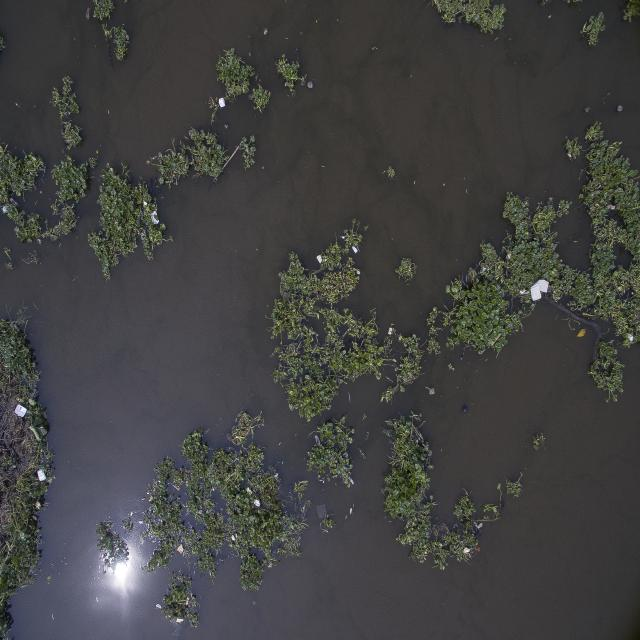plastic: (516, 271, 562, 312), (8, 390, 38, 429), (236, 484, 269, 512), (210, 84, 234, 114), (34, 465, 58, 493), (456, 541, 480, 565), (171, 540, 189, 565), (347, 236, 363, 261), (313, 252, 327, 270)
